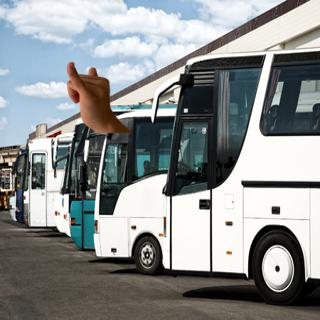HAVE: (58, 58, 121, 130)
